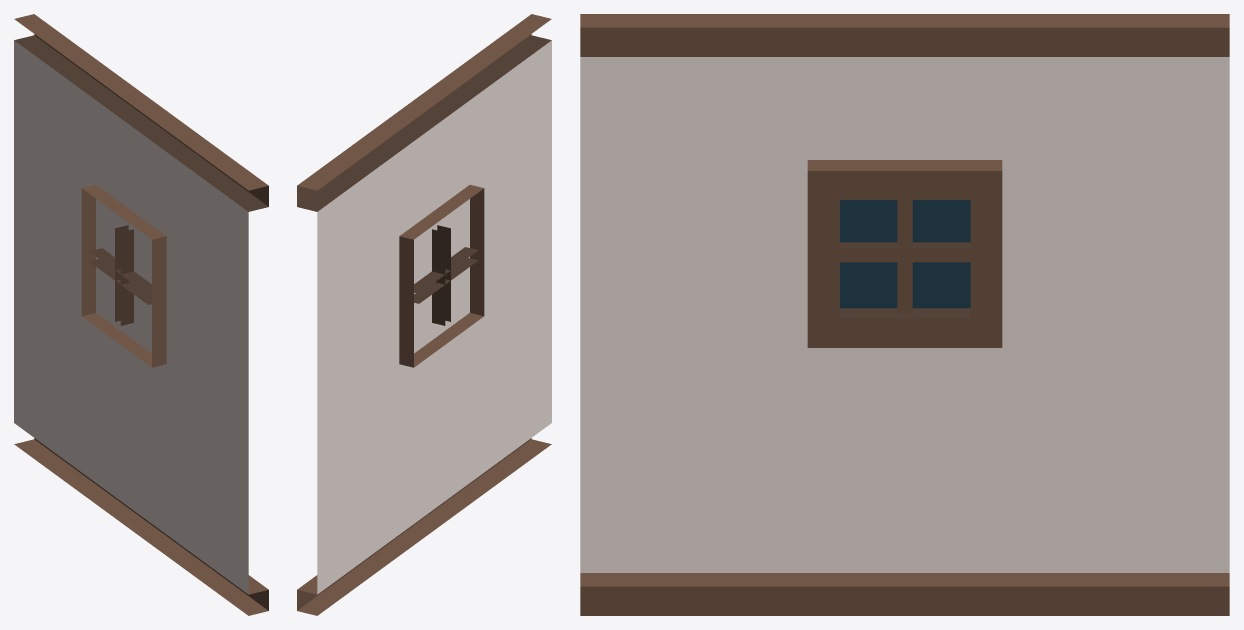
Rendered from basic_wall_009.fbx.
The picture shows the model from 3 angles, left to right: view 1: azimuth 30°, elevation 25°; view 2: azimuth 150°, elevation 25°; view 3: azimuth 270°, elevation 25°; orthographic projection. The views are drawn at different scales.
Visible parts, largest first — view 1: Base_Wall.009; view 2: Base_Wall.009; view 3: Base_Wall.009.
Part boxes in pixels (x1,y1,x2,y2): Base_Wall.009: (14,14,268,615); Base_Wall.009: (297,14,551,615); Base_Wall.009: (580,14,1229,615).
Size of the model in its own units: 200 by 17.11 by 200.
